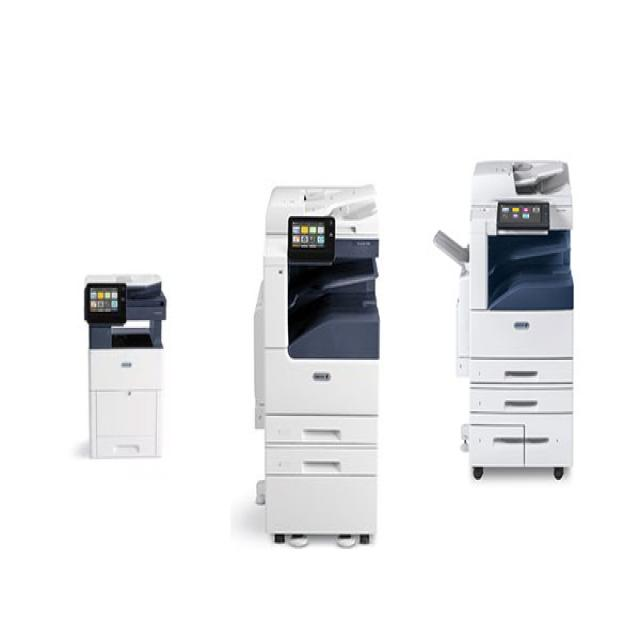printer: (252, 182, 380, 548), (432, 156, 574, 482), (84, 272, 166, 459)
